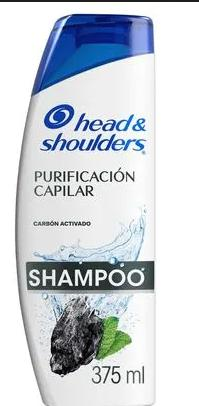brand: (32, 107, 150, 156)
extra_detail: (30, 165, 146, 202)
net_weight: (82, 362, 154, 387)
product_name: (29, 263, 153, 290)
